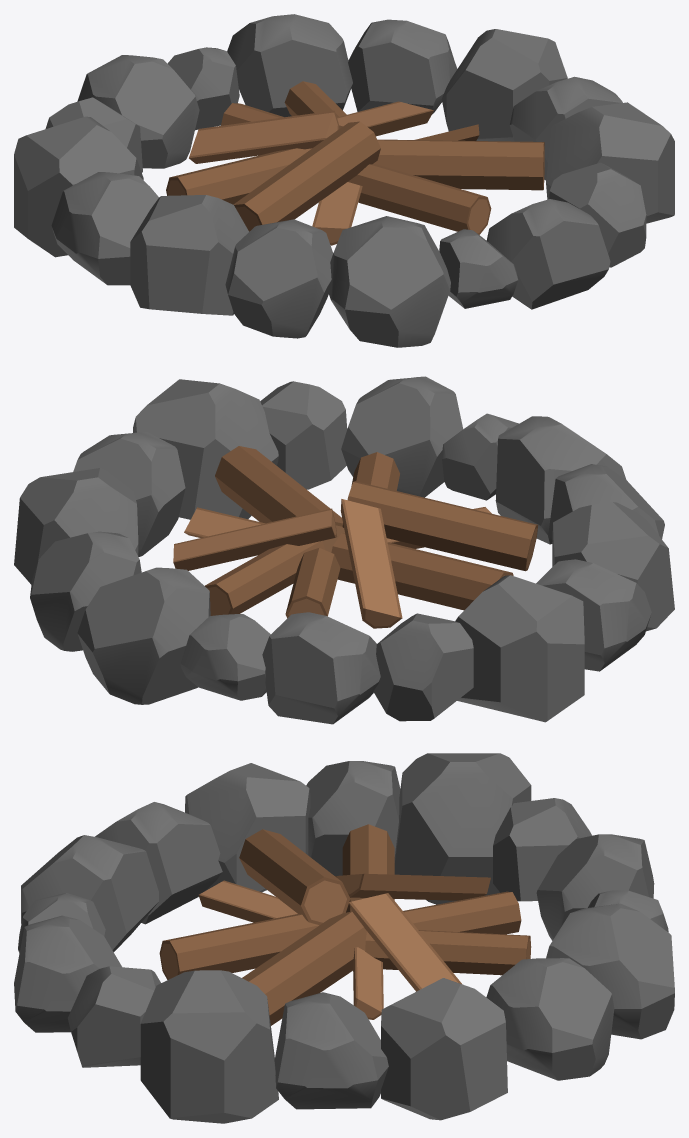
The model's file is Fireplace_01.fbx.
The picture shows the model from 3 angles, top to bottom: view 1: azimuth 30°, elevation 25°; view 2: azimuth 150°, elevation 25°; view 3: azimuth 270°, elevation 25°; orthographic projection. The views are drawn at different scales.
Visible parts, largest first — view 1: Fireplace_01_LOD0; view 2: Fireplace_01_LOD0; view 3: Fireplace_01_LOD0.
Boxes of the visible parts, x1=… form: Fireplace_01_LOD0: x1=14, y1=14, x2=674, y2=347; Fireplace_01_LOD0: x1=14, y1=376, x2=674, y2=724; Fireplace_01_LOD0: x1=14, y1=753, x2=674, y2=1123.
Size of what is drawn, in the model's own units: 0.9157 by 0.1924 by 0.8841.
